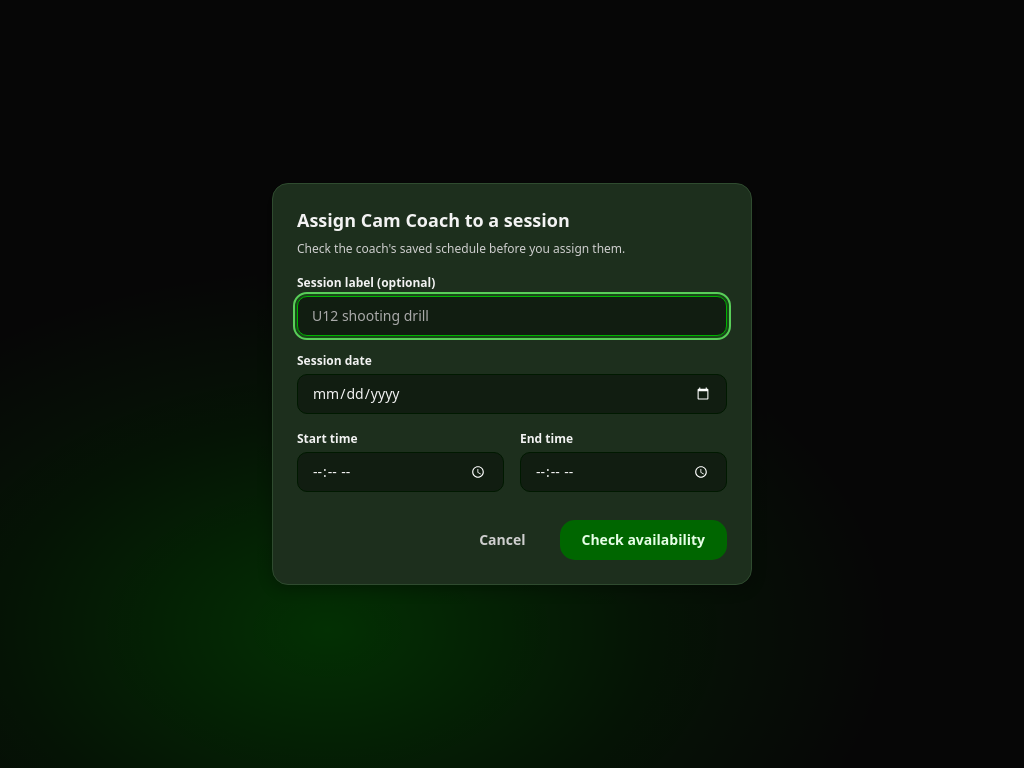
AssignCoachConflictModal › shows an error and stays open when the check request fails
In the field labelled "Session label (optional)": (512, 316) x1=297 y1=296 x2=727 y2=336, type "U12 drill"
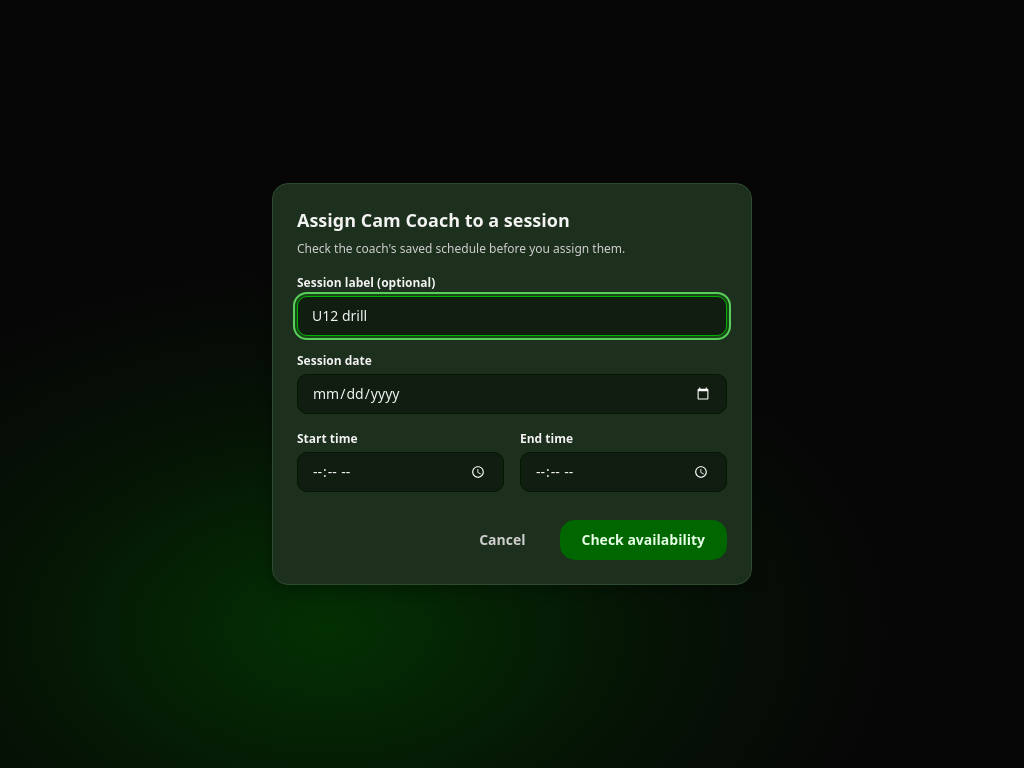
In the date field labelled "Session date": (512, 394) x1=297 y1=374 x2=727 y2=414, type "2026-10-05"
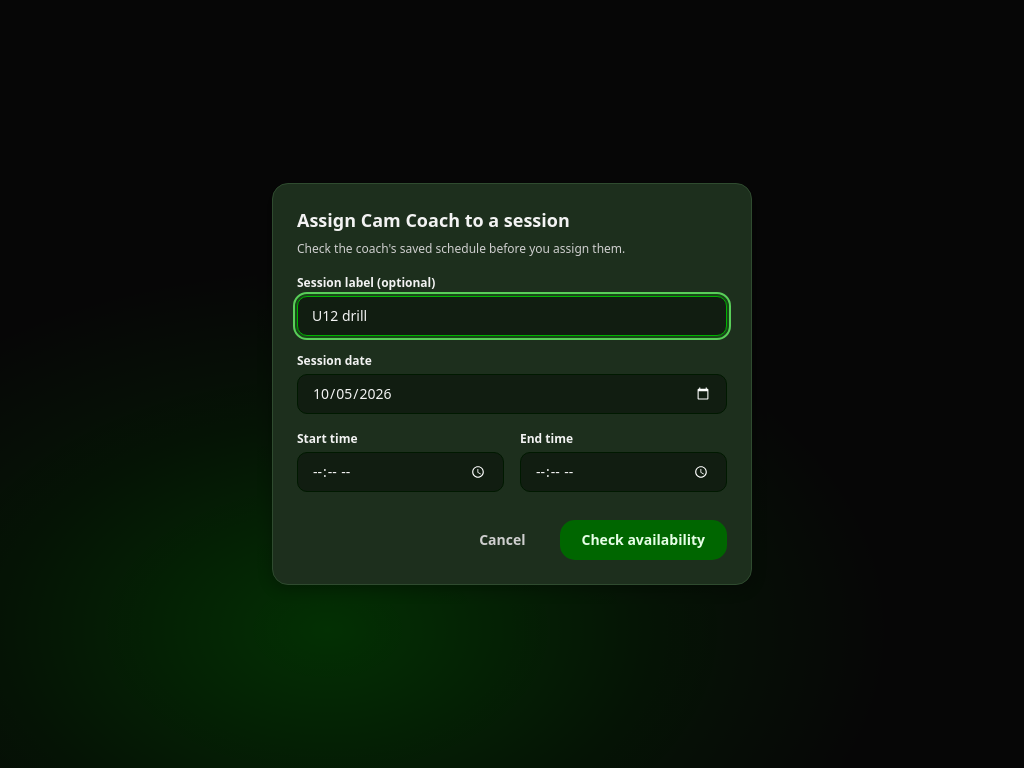
In the time field labelled "Start time": (400, 472) x1=297 y1=452 x2=504 y2=492, type "17:00"
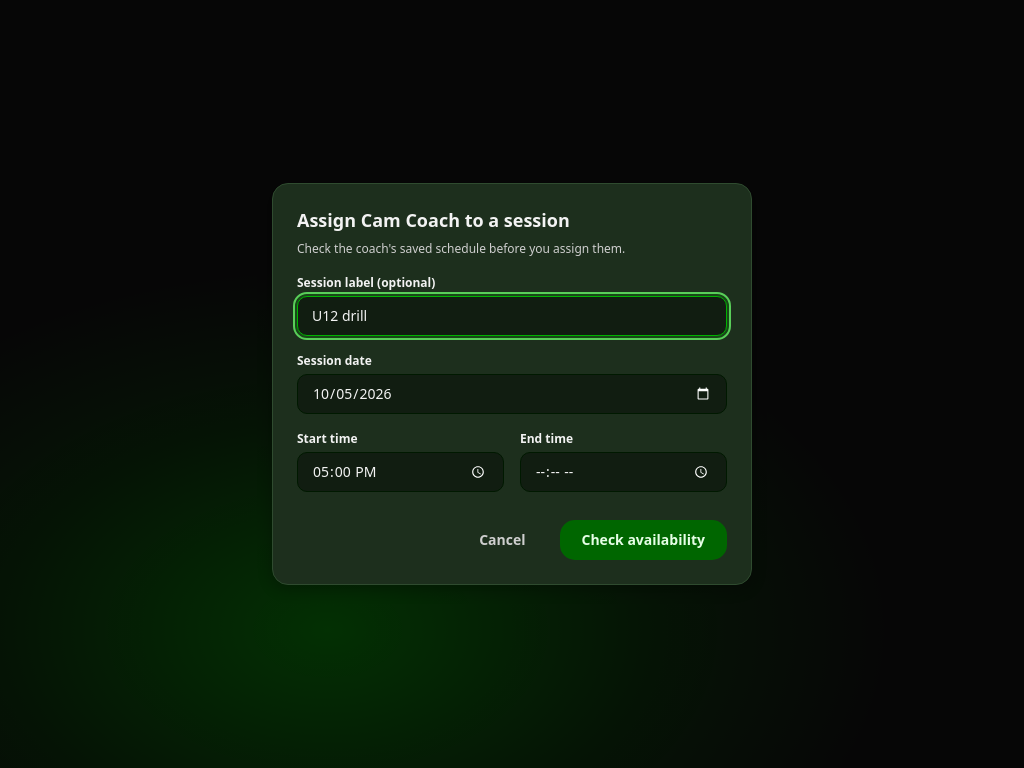
In the time field labelled "End time": (624, 472) x1=520 y1=452 x2=727 y2=492, type "18:30"
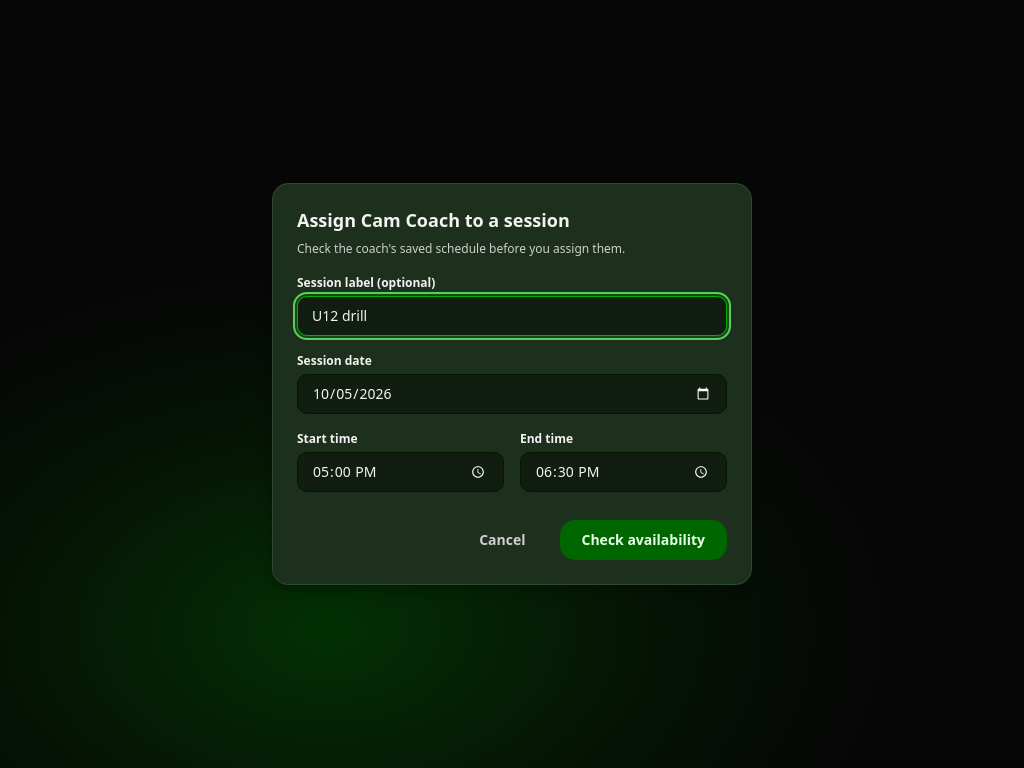
Click the button "Check availability": (643, 540) x1=560 y1=520 x2=727 y2=560
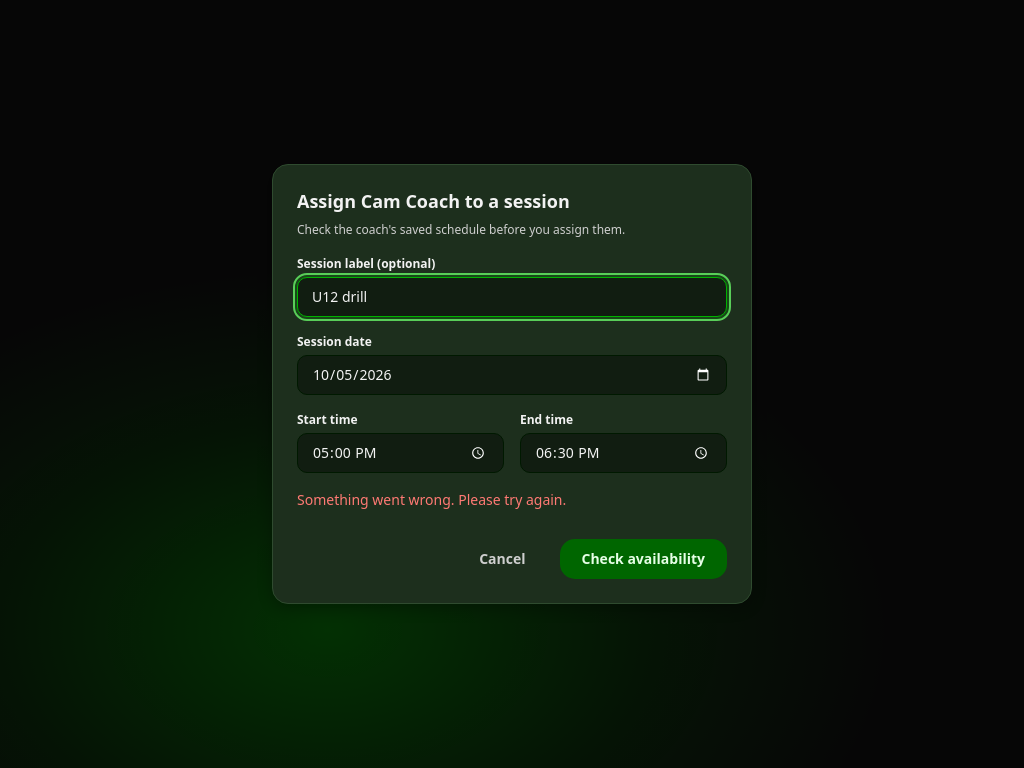
Now the message shows "Something went wrong", box x1=297 y1=490 x2=566 y2=509
